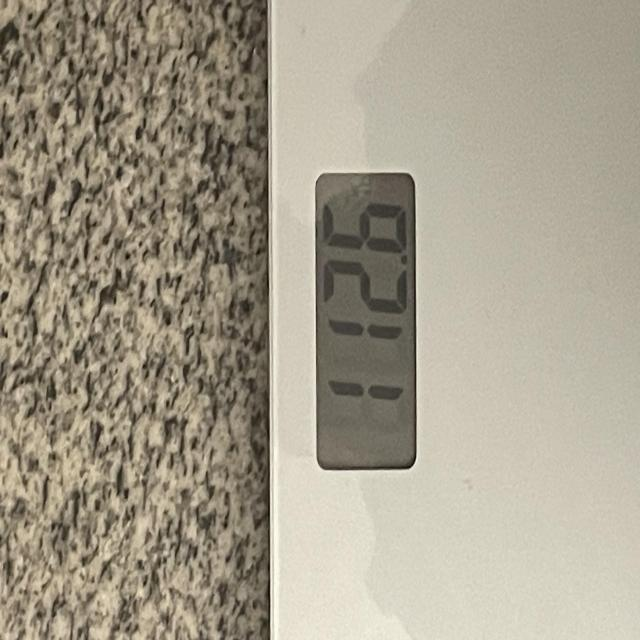ws: (267, 0, 640, 640)
